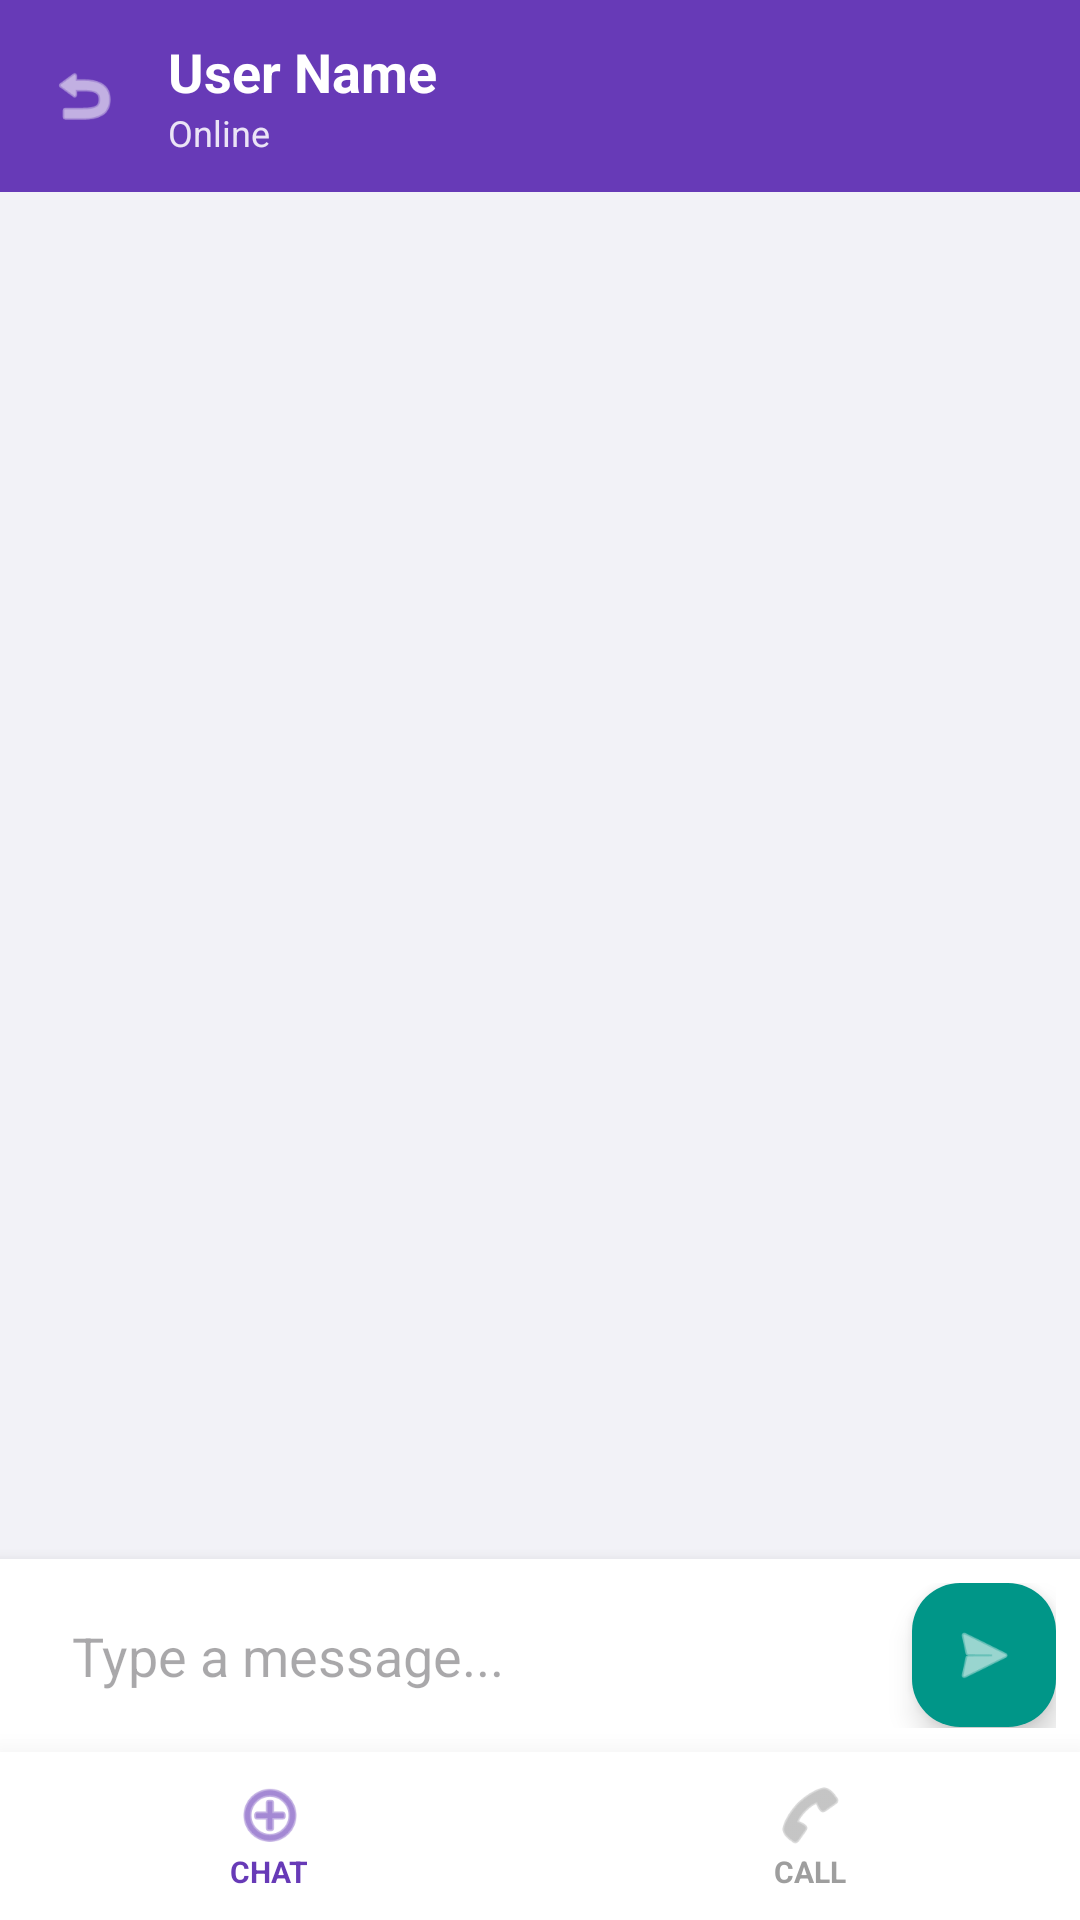

Icons on this 1080*1920 Android screen, each with its box as rect(x1, y1, x2, y2):
add: rect(243, 1789, 297, 1842)
revert: rect(59, 73, 111, 120)
send: rect(912, 1583, 1056, 1727)
